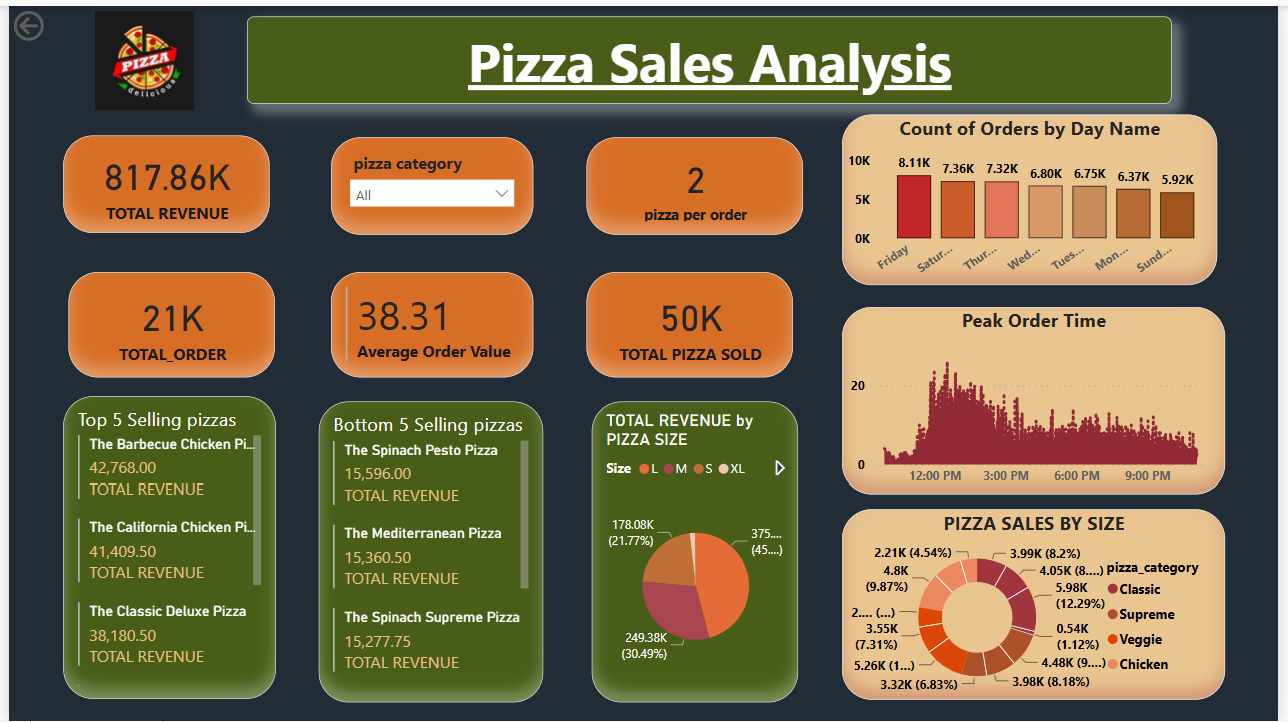

The dashboard page shown, as its layout file describes it:
{"tool":"powerbi","page":{"name":"Page 1","canvas":[1280,720],"ordinal":0},"visuals":[{"type":"card","fields":{"Values":["Measure.TOTAL"]},"box":[54,130,208,98],"z":0},{"type":"card","fields":{"Values":["Measure.TOTAL_ORDER"]},"box":[60,268,208,106],"z":1000},{"type":"card","fields":{"Values":["Measure.TOTAL PIZZA SOLD"]},"box":[582,268,208,106],"z":2000},{"type":"slicer","fields":{"Values":["pizza_sales.pizza_category"]},"box":[324,132,204,98],"z":3000},{"type":"columnChart","title":"Count of Orders by Day Name","fields":{"Y":["CountNonNull(order_summary.Day Name)"],"Category":["order_summary.Day Name"],"Series":["order_summary.Day Name"]},"box":[840,110,378,172],"z":4000},{"type":"textbox","box":[240,10,932,88],"z":5000},{"type":"image","box":[78,0,118,110],"z":6000},{"type":"donutChart","title":"PIZZA SALES BY SIZE","fields":{"Y":["CountNonNull(order_summary.pizza_category)"],"Category":["order_summary.pizza_category"],"Series":["order_summary.pizza_size"]},"box":[840,506,386,192],"z":7000},{"type":"multiRowCard","fields":{"Values":["Measure.Average Order Value"]},"box":[324,268,204,106],"z":8000},{"type":"card","fields":{"Values":["Measure.pizza per order"]},"box":[582,132,218,98],"z":9000},{"type":"areaChart","title":"Peak Order Time","fields":{"Y":["CountNonNull(pizza_sales.order_time)"],"Category":["pizza_sales.order_time"]},"box":[840,304,386,188],"z":10000},{"type":"multiRowCard","title":"Top 5 Selling pizzas","fields":{"Values":["pizza_sales.pizza_name","Measure.TOTAL REVENUE"]},"box":[54,394,214,304],"z":11000},{"type":"multiRowCard","title":"Bottom 5 Selling pizzas","fields":{"Values":["Measure.TOTAL REVENUE","pizza_sales.pizza_name"]},"box":[312,398,226,302],"z":12000},{"type":"pieChart","title":"TOTAL REVENUE by PIZZA SIZE","fields":{"Y":["Measure.TOTAL REVENUE"],"Category":["order_summary.pizza_size"]},"box":[588,398,208,302],"z":13000}]}

Visuals, with their boxes in screenshot pixels (x1, y1, x2, y2), scaled from the page's 1280x720 canvas onto the 1288x722 screenshot:
card - Measure.TOTAL: (54, 130, 264, 229)
card - Measure.TOTAL_ORDER: (60, 269, 270, 375)
card - Measure.TOTAL PIZZA SOLD: (586, 269, 795, 375)
slicer - pizza_sales.pizza_category: (326, 132, 531, 231)
"Count of Orders by Day Name" columnChart: (845, 110, 1226, 283)
textbox: (242, 10, 1179, 98)
image: (78, 0, 197, 110)
"PIZZA SALES BY SIZE" donutChart: (845, 507, 1234, 700)
multiRowCard - Measure.Average Order Value: (326, 269, 531, 375)
card - Measure.pizza per order: (586, 132, 805, 231)
"Peak Order Time" areaChart: (845, 305, 1234, 493)
"Top 5 Selling pizzas" multiRowCard: (54, 395, 270, 700)
"Bottom 5 Selling pizzas" multiRowCard: (314, 399, 541, 702)
"TOTAL REVENUE by PIZZA SIZE" pieChart: (592, 399, 801, 702)
